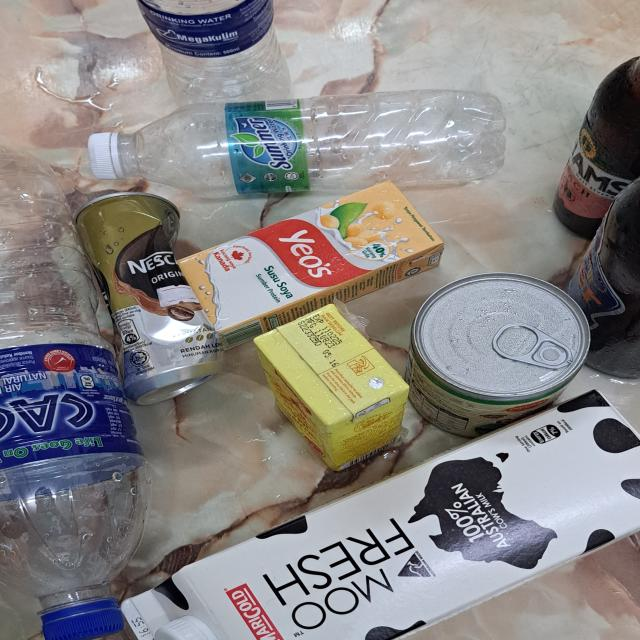can: (67, 186, 229, 407), (408, 277, 590, 438)
drink carton: (117, 385, 640, 640), (181, 179, 443, 341), (263, 301, 409, 468)
glass bottle: (552, 56, 640, 232), (571, 167, 640, 388)
plastic bottle: (0, 154, 141, 594), (117, 94, 512, 195), (132, 0, 307, 127)
plastic bottle cap: (38, 601, 124, 640), (157, 609, 219, 640), (86, 132, 126, 180)
pop tab: (493, 322, 568, 372)
